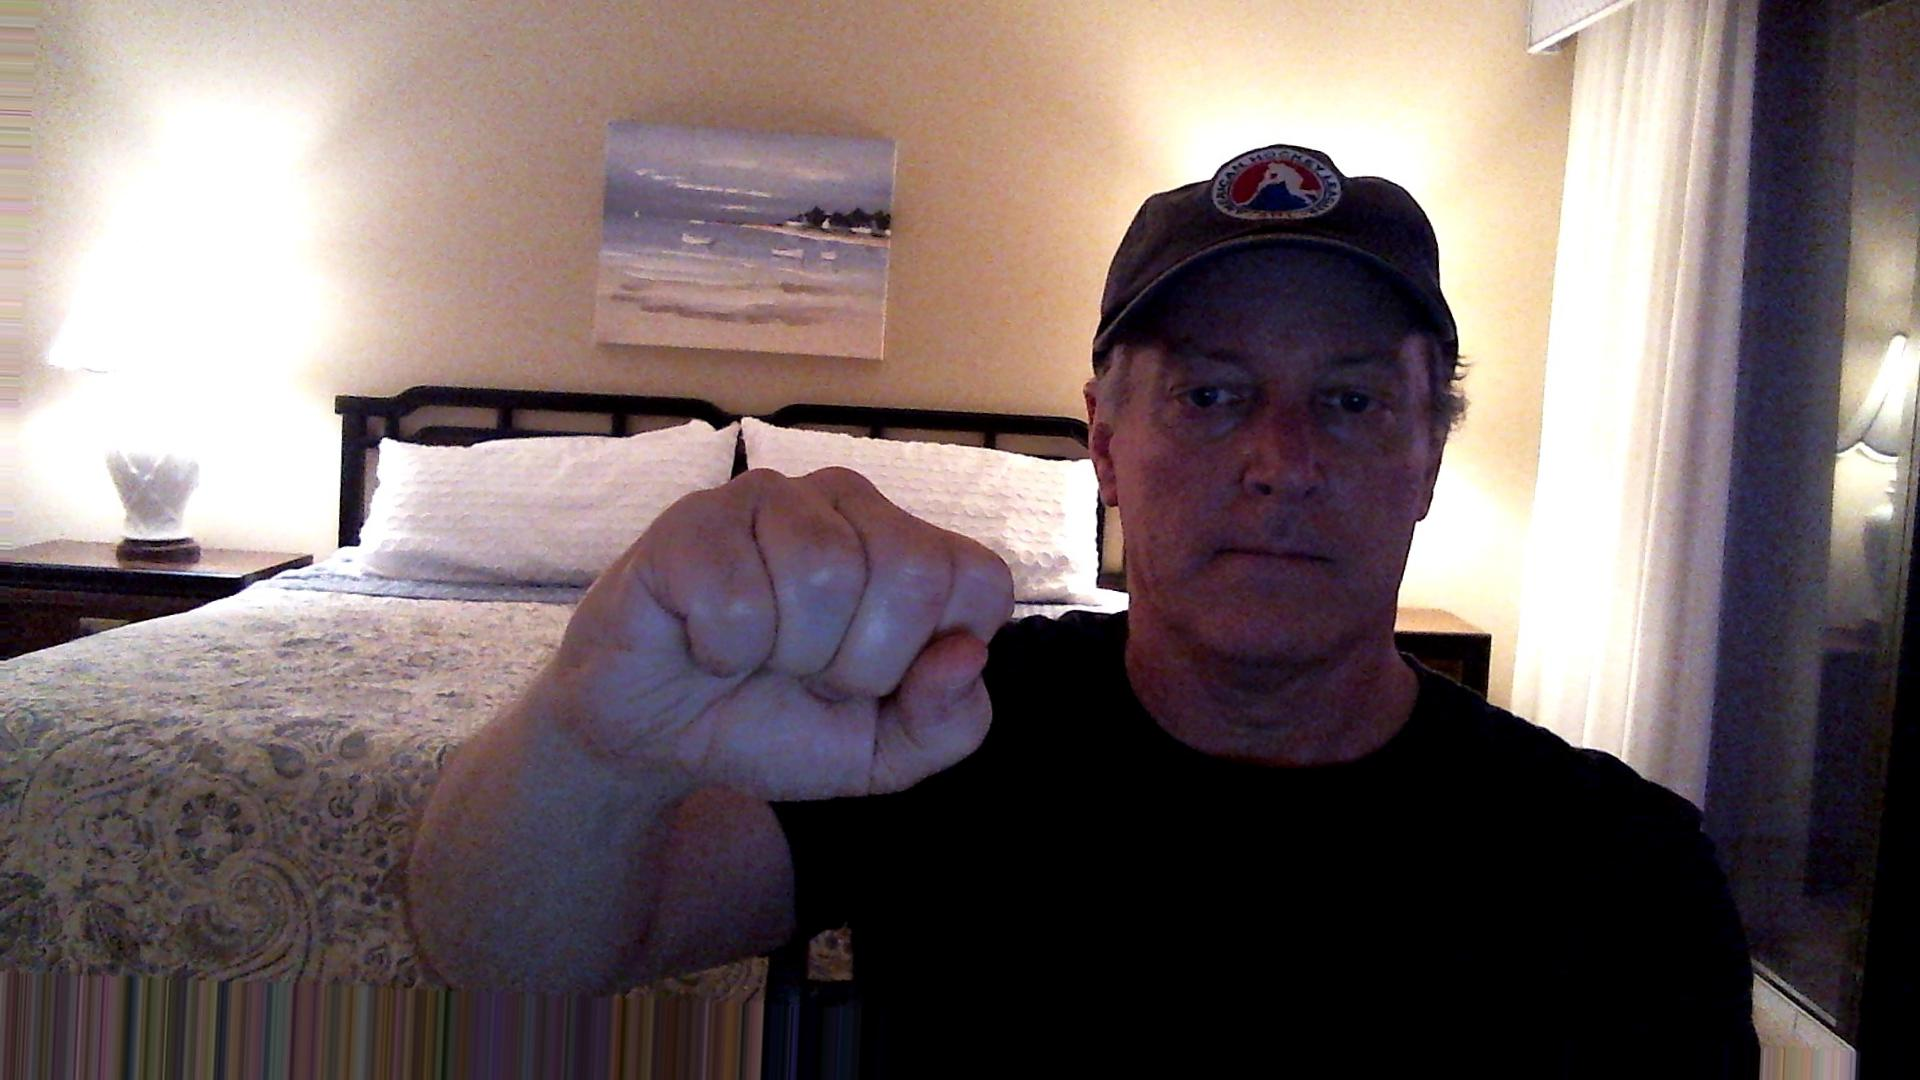Yes: (543, 442, 1039, 804)
